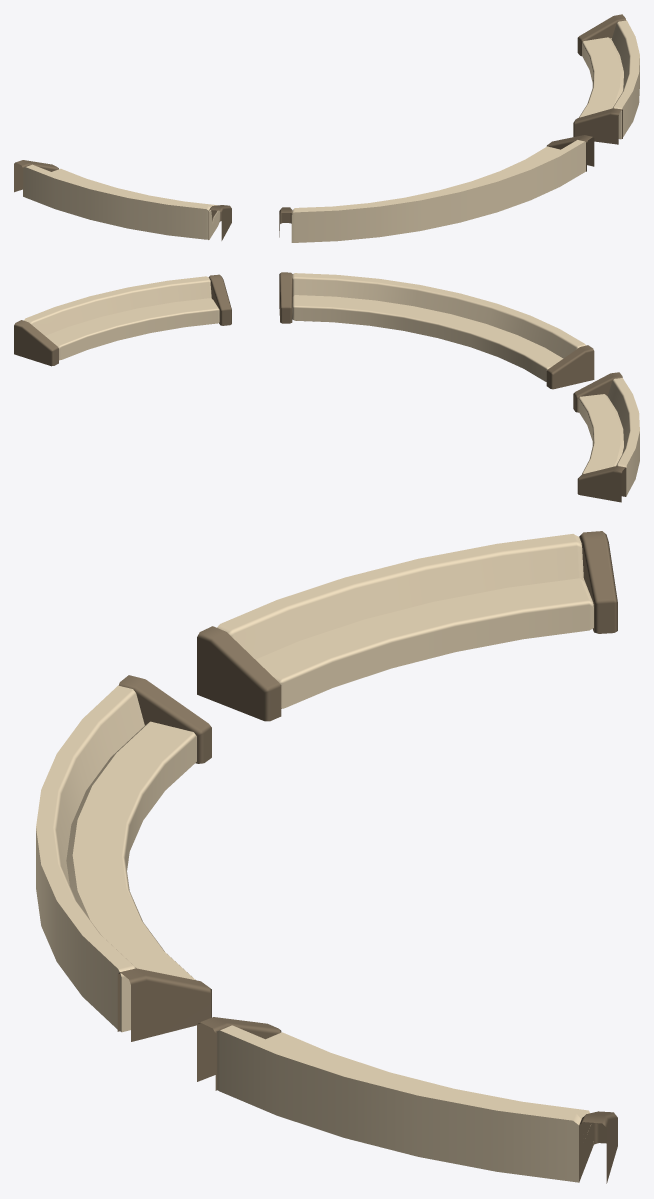
Rendered from Couches_LODs.fbx.
3 views of the same model, one above another, from view 1: azimuth 30°, elevation 25°; view 2: azimuth 150°, elevation 25°; view 3: azimuth 270°, elevation 25° (orthographic). The views are drawn at different scales.
Parts seen in each view (by area): view 1: Couches_LOD0; view 2: Couches_LOD0; view 3: Couches_LOD0.
Part boxes in pixels (left/top/right/bottom): Couches_LOD0: left=14, top=14, right=639, bottom=242; Couches_LOD0: left=14, top=272, right=639, bottom=502; Couches_LOD0: left=36, top=531, right=617, bottom=1183.
Size of what is drawn, in the model's own units: 1952 by 94.05 by 810.
